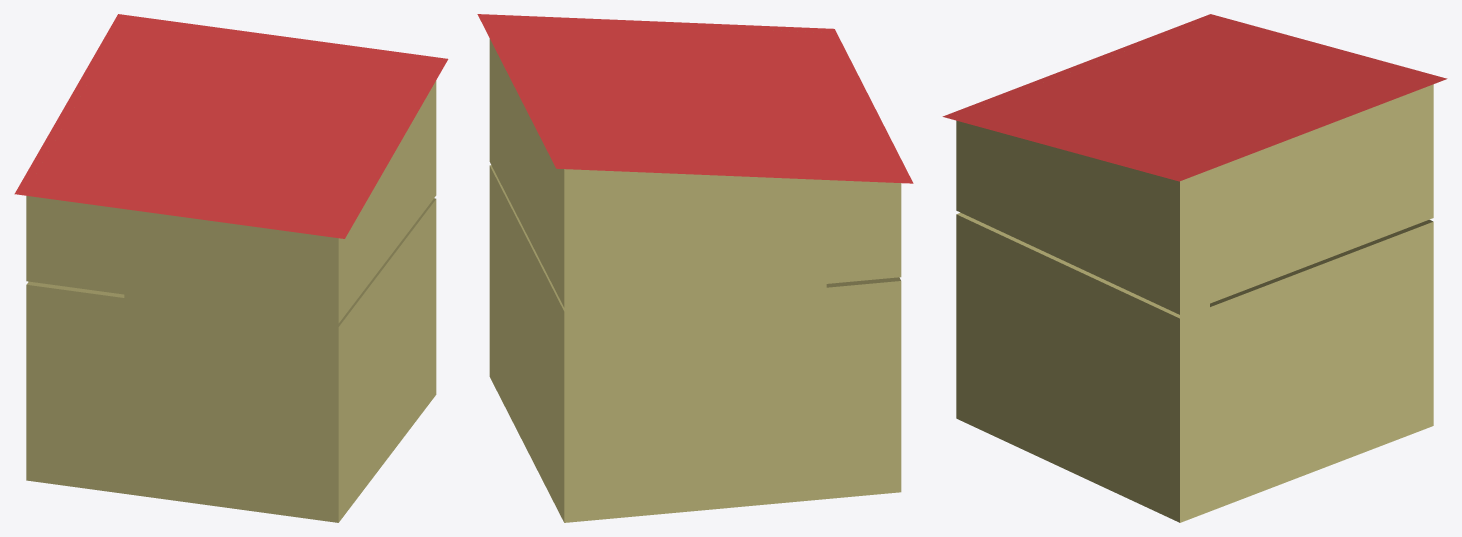
3 renders of one model, left to right at view 1: azimuth 30°, elevation 25°; view 2: azimuth 150°, elevation 25°; view 3: azimuth 270°, elevation 25°, orthographic. The views are drawn at different scales.
Bounding box in the file's own units: 12.62 × 12.63 × 9.58.
